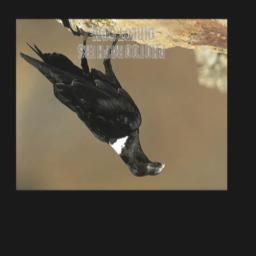Crow: (19, 26, 166, 177)
